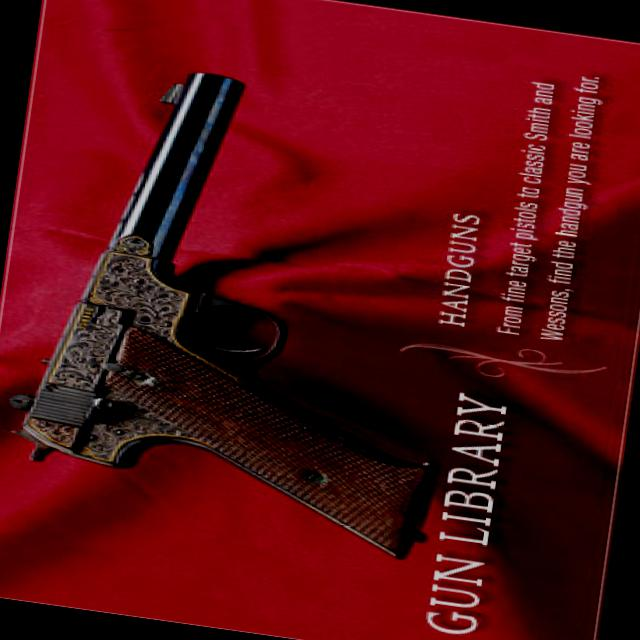handgun: (0, 50, 483, 575)
